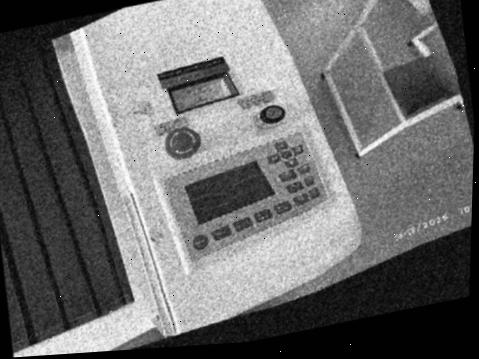Amp_Meter: (169, 77, 231, 111)
Display: (183, 161, 273, 224)
Down_button: (283, 157, 297, 168)
Emergency_Stop: (163, 126, 200, 159)
Enter_button: (296, 163, 309, 174)
Esc_button: (277, 169, 295, 181)
File_button: (291, 192, 307, 205)
Frame_button: (303, 175, 313, 186)
Left_button: (265, 153, 280, 163)
Max-Power_button: (272, 200, 290, 214)
Min-Power_button: (252, 208, 271, 222)
Origin_button: (285, 180, 302, 193)
Power_switch: (260, 105, 283, 122)
Pulse_button: (210, 225, 230, 240)
Reset_button: (191, 234, 207, 249)
Right_button: (290, 144, 302, 154)
Speed_button: (231, 216, 251, 231)
Start-Pause_button: (307, 186, 318, 198)
Up_button: (272, 140, 287, 150)
